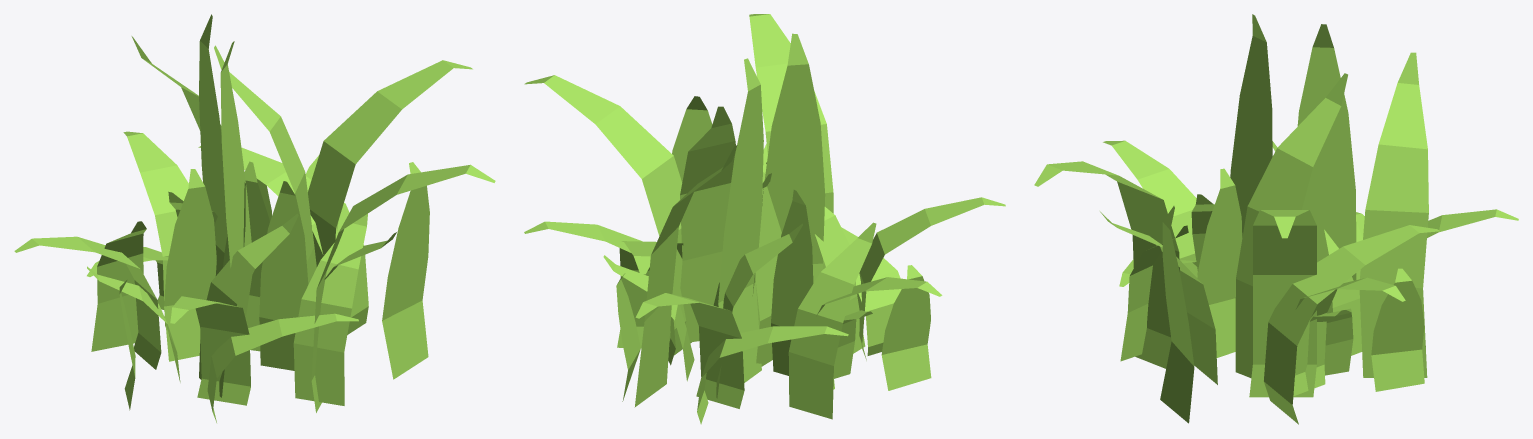
File: grass.fbx
3 renders of one model, left to right at view 1: azimuth 30°, elevation 25°; view 2: azimuth 150°, elevation 25°; view 3: azimuth 270°, elevation 25°, orthographic.
Visible parts, largest first — view 1: Plane; view 2: Plane; view 3: Plane.
Boxes of the visible parts, box(x1,y1,x2,y2) form: Plane: box(14, 14, 495, 422); Plane: box(524, 14, 1005, 424); Plane: box(1034, 14, 1518, 424).
Size of the model in its own units: 188 by 138 by 182.
